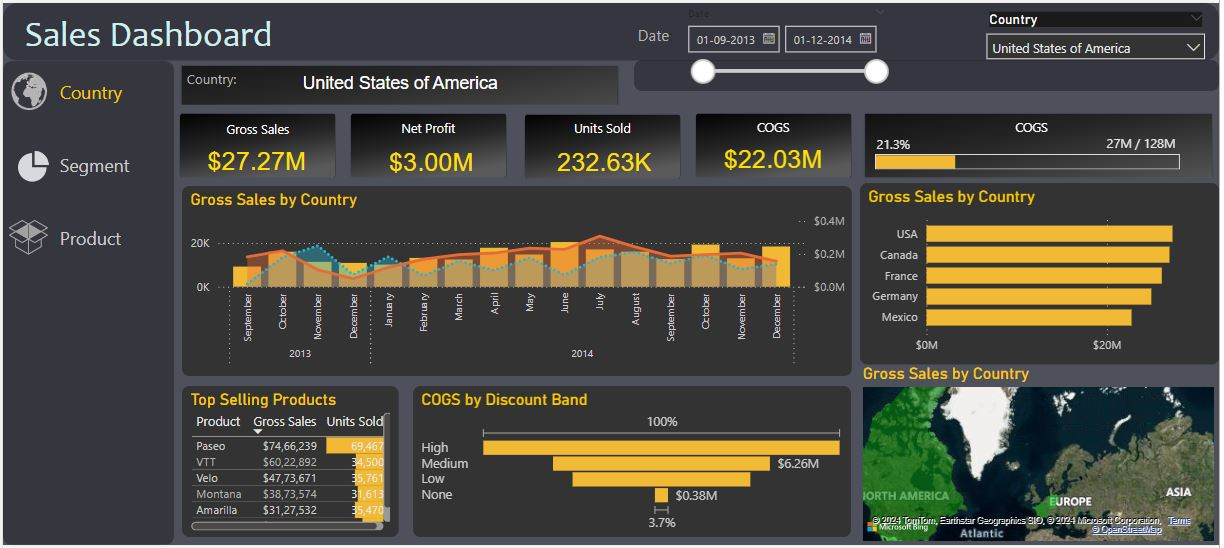

What the dashboard file says about the page in this screenshot:
{"tool":"powerbi","page":{"name":"Page 1","canvas":[1280,570],"ordinal":0},"visuals":[{"type":"shape","box":[0,0,1280,60.7],"z":0},{"type":"image","box":[360.3,111.6,176.1,77.3],"z":1000},{"type":"image","box":[179.6,111.8,176.1,77.3],"z":2000},{"type":"image","box":[179.6,60.7,474.6,51.2],"z":3000},{"type":"shape","box":[663.9,60.5,616.1,32.8],"z":4000},{"type":"textbox","box":[215.3,119,104.7,29.7],"z":5000},{"type":"textbox","box":[394.8,117.5,105.9,30.9],"z":6000},{"type":"card","fields":{"Values":["Sum(financials.Profit)"]},"box":[397.5,141.7,105.8,50],"z":7000},{"type":"card","fields":{"Values":["Sum(financials.Gross Sales)"]},"box":[196.3,143.9,142.8,45.2],"z":8000},{"type":"card","fields":{"Values":["Min(financials.Country)"]},"box":[261.7,51.2,311.7,67.8],"z":9000},{"type":"slicer","fields":{"Values":["financials.Country"]},"box":[1025.4,4.2,250.4,56.3],"z":10000},{"type":"textbox","box":[188.5,64.9,73.3,33.5],"z":11000},{"type":"textbox","box":[663.4,18.1,139.5,33],"z":12000},{"type":"slicer","fields":{"Values":["financials.Date"]},"box":[708.2,0,232.1,93.7],"z":13000},{"type":"shape","box":[0,61.1,180,509.5],"z":14000},{"type":"image","box":[0,67,54.5,51.3],"z":15000},{"type":"textbox","box":[54.7,76.1,89.2,35.7],"z":16000},{"type":"textbox","box":[18.1,4.3,280.1,60.7],"z":17000},{"type":"image","box":[0,135.6,64.2,72.6],"z":18000},{"type":"image","box":[0,222.5,54.7,48.8],"z":19000},{"type":"textbox","box":[55.1,152.8,103.2,35.8],"z":20000},{"type":"textbox","box":[54.7,229.6,89.2,35.7],"z":21000},{"type":"image","box":[543.7,112.4,176.1,77.3],"z":22000},{"type":"textbox","box":[578.2,118.3,105.9,30.9],"z":23000},{"type":"card","fields":{"Values":["Sum(financials.Units Sold)"]},"box":[561.7,141.7,141.7,50.8],"z":24000},{"type":"image","box":[723,111.4,176.1,77.3],"z":25000},{"type":"textbox","box":[757.5,117.3,105.9,30.9],"z":26000},{"type":"card","fields":{"Values":["Sum(financials.COGS)"]},"box":[749.6,139.6,122.5,49.5],"z":27000},{"type":"image","box":[900,111.6,380,76.8],"z":28000},{"type":"textbox","box":[1029.5,116.8,106.3,30.5],"z":29000},{"type":"filledMap","title":"Gross Sales by Country","fields":{"Category":["financials.Country"]},"box":[900,380,380,190.5],"z":30000},{"type":"hundredPercentStackedBarChart","fields":{"Y":["Sum(financials.Gross Sales)"]},"box":[913.6,128.2,93.6,70.9],"z":31000},{"type":"shape","box":[918.2,159.1,320.9,16.4],"z":32000},{"type":"textbox","box":[902.3,134.7,69.9,30.1],"z":33000},{"type":"textbox","box":[1136.1,133.5,124.1,30.1],"z":34000},{"type":"barChart","title":"Gross Sales by Country","fields":{"Category":["financials.CountryCol"],"Y":["Sum(financials.Gross Sales)"]},"box":[902.1,189.5,377.9,190.5],"z":35000},{"type":"lineClusteredColumnComboChart","title":"Gross Sales by Country","fields":{"Category":["financials.Date.Variation.Date Hierarchy.Year","financials.Date.Variation.Date Hierarchy.Month"],"Y2":["Sum(financials.Discounts)","Sum(financials.Profit)"],"Y":["Sum(financials.Units Sold)"]},"box":[188.4,192.6,705.3,200],"z":36000},{"type":"tableEx","title":"Top Selling Products","fields":{"Values":["financials.Product","Sum(financials.Gross Sales)","Sum(financials.Units Sold)"]},"box":[188.4,403.2,228.4,158.9],"z":37000},{"type":"funnel","title":"COGS by Discount Band","fields":{"Y":["Sum(financials.COGS)"],"Category":["financials.Discount Band"]},"box":[431.6,403.2,461.1,158.9],"z":38000}]}

Visuals, with their boxes in screenshot pixels (x1, y1, x2, y2), scaled from the page's 1280x570 canvas onto the 1224x548 screenshot:
shape: [0,0,1223,58]
image: [345,107,513,182]
image: [172,107,340,182]
image: [172,58,626,108]
shape: [635,58,1223,90]
textbox: [206,114,306,143]
textbox: [378,113,479,143]
card - Sum(financials.Profit): [380,136,481,184]
card - Sum(financials.Gross Sales): [188,138,324,182]
card - Min(financials.Country): [250,49,548,114]
slicer - financials.Country: [981,4,1220,58]
textbox: [180,62,250,95]
textbox: [634,17,768,49]
slicer - financials.Date: [677,0,899,90]
shape: [0,59,172,547]
image: [0,64,52,114]
textbox: [52,73,138,107]
textbox: [17,4,285,62]
image: [0,130,61,200]
image: [0,214,52,261]
textbox: [53,147,151,181]
textbox: [52,221,138,255]
image: [520,108,688,182]
textbox: [553,114,654,143]
card - Sum(financials.Units Sold): [537,136,673,185]
image: [691,107,860,181]
textbox: [724,113,826,142]
card - Sum(financials.COGS): [717,134,834,182]
image: [861,107,1223,181]
textbox: [984,112,1086,142]
"Gross Sales by Country" filledMap: [861,365,1223,547]
hundredPercentStackedBarChart - Sum(financials.Gross Sales): [874,123,963,191]
shape: [878,153,1185,169]
textbox: [863,130,930,158]
textbox: [1086,128,1205,157]
"Gross Sales by Country" barChart: [863,182,1223,365]
"Gross Sales by Country" lineClusteredColumnComboChart: [180,185,855,377]
"Top Selling Products" tableEx: [180,388,399,540]
"COGS by Discount Band" funnel: [413,388,854,540]
